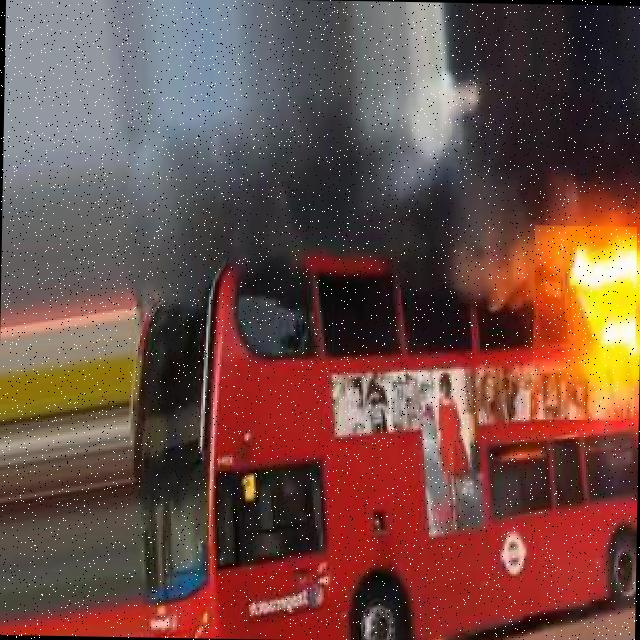fire: (532, 224, 636, 420)
